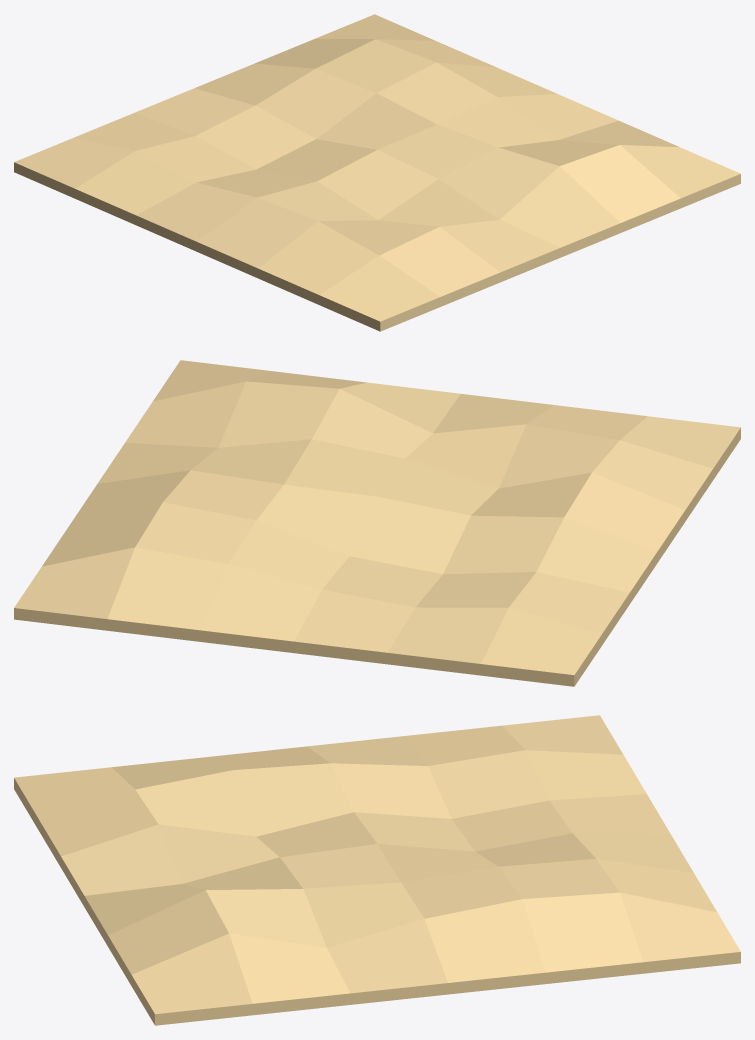
Rendered from Sand 2.fbx.
3 views of the same model, one above another, from view 1: azimuth 30°, elevation 25°; view 2: azimuth 150°, elevation 25°; view 3: azimuth 270°, elevation 25° (orthographic). The views are drawn at different scales.
Parts seen in each view (by area): view 1: Sand 2; view 2: Sand 2; view 3: Sand 2.
Boxes of the visible parts, box(x1,y1,x2,y2) form: Sand 2: box(14, 14, 740, 331); Sand 2: box(14, 360, 740, 686); Sand 2: box(14, 715, 740, 1025).
Bounding box in the file's own units: 677 × 696 × 48.92.
